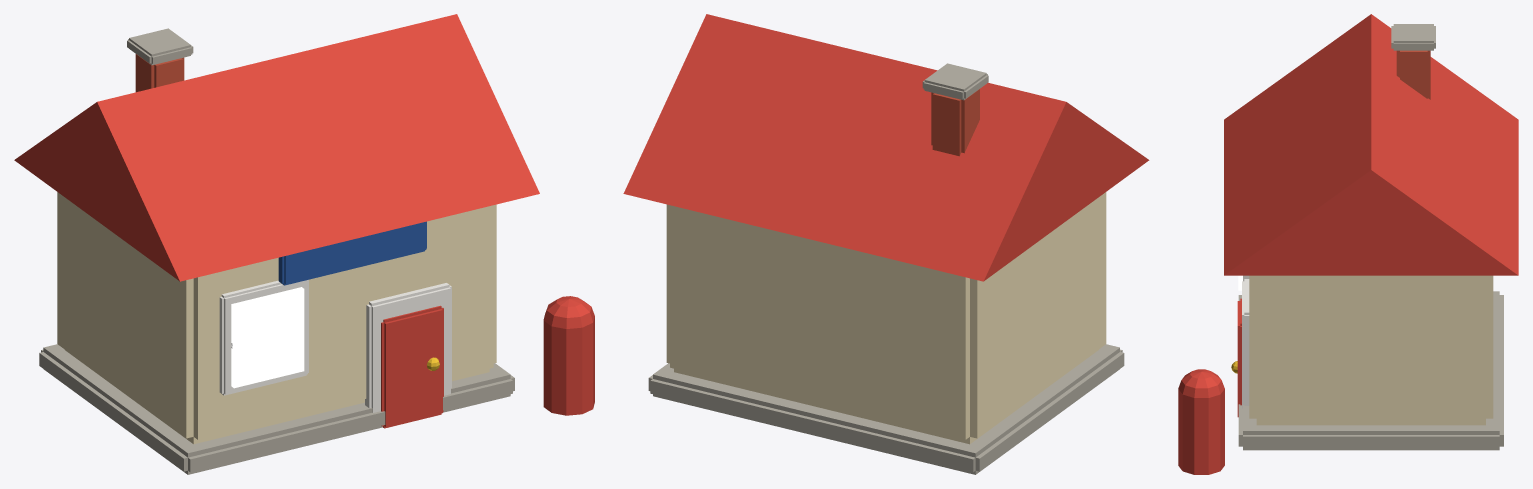
Rendered from postoffice.001.glb.
3 renders of one model, left to right at view 1: azimuth 30°, elevation 25°; view 2: azimuth 150°, elevation 25°; view 3: azimuth 270°, elevation 25°, orthographic. The views are drawn at different scales.
Visible parts, largest first — view 1: postoffice.001; view 2: postoffice.001; view 3: postoffice.001.
Part boxes in pixels (x1=…): postoffice.001: x1=14, y1=14, x2=594, y2=474; postoffice.001: x1=623, y1=14, x2=1149, y2=474; postoffice.001: x1=1178, y1=14, x2=1518, y2=474.
Bounding box in the file's own units: 1.92 × 1.6 × 1.61.
